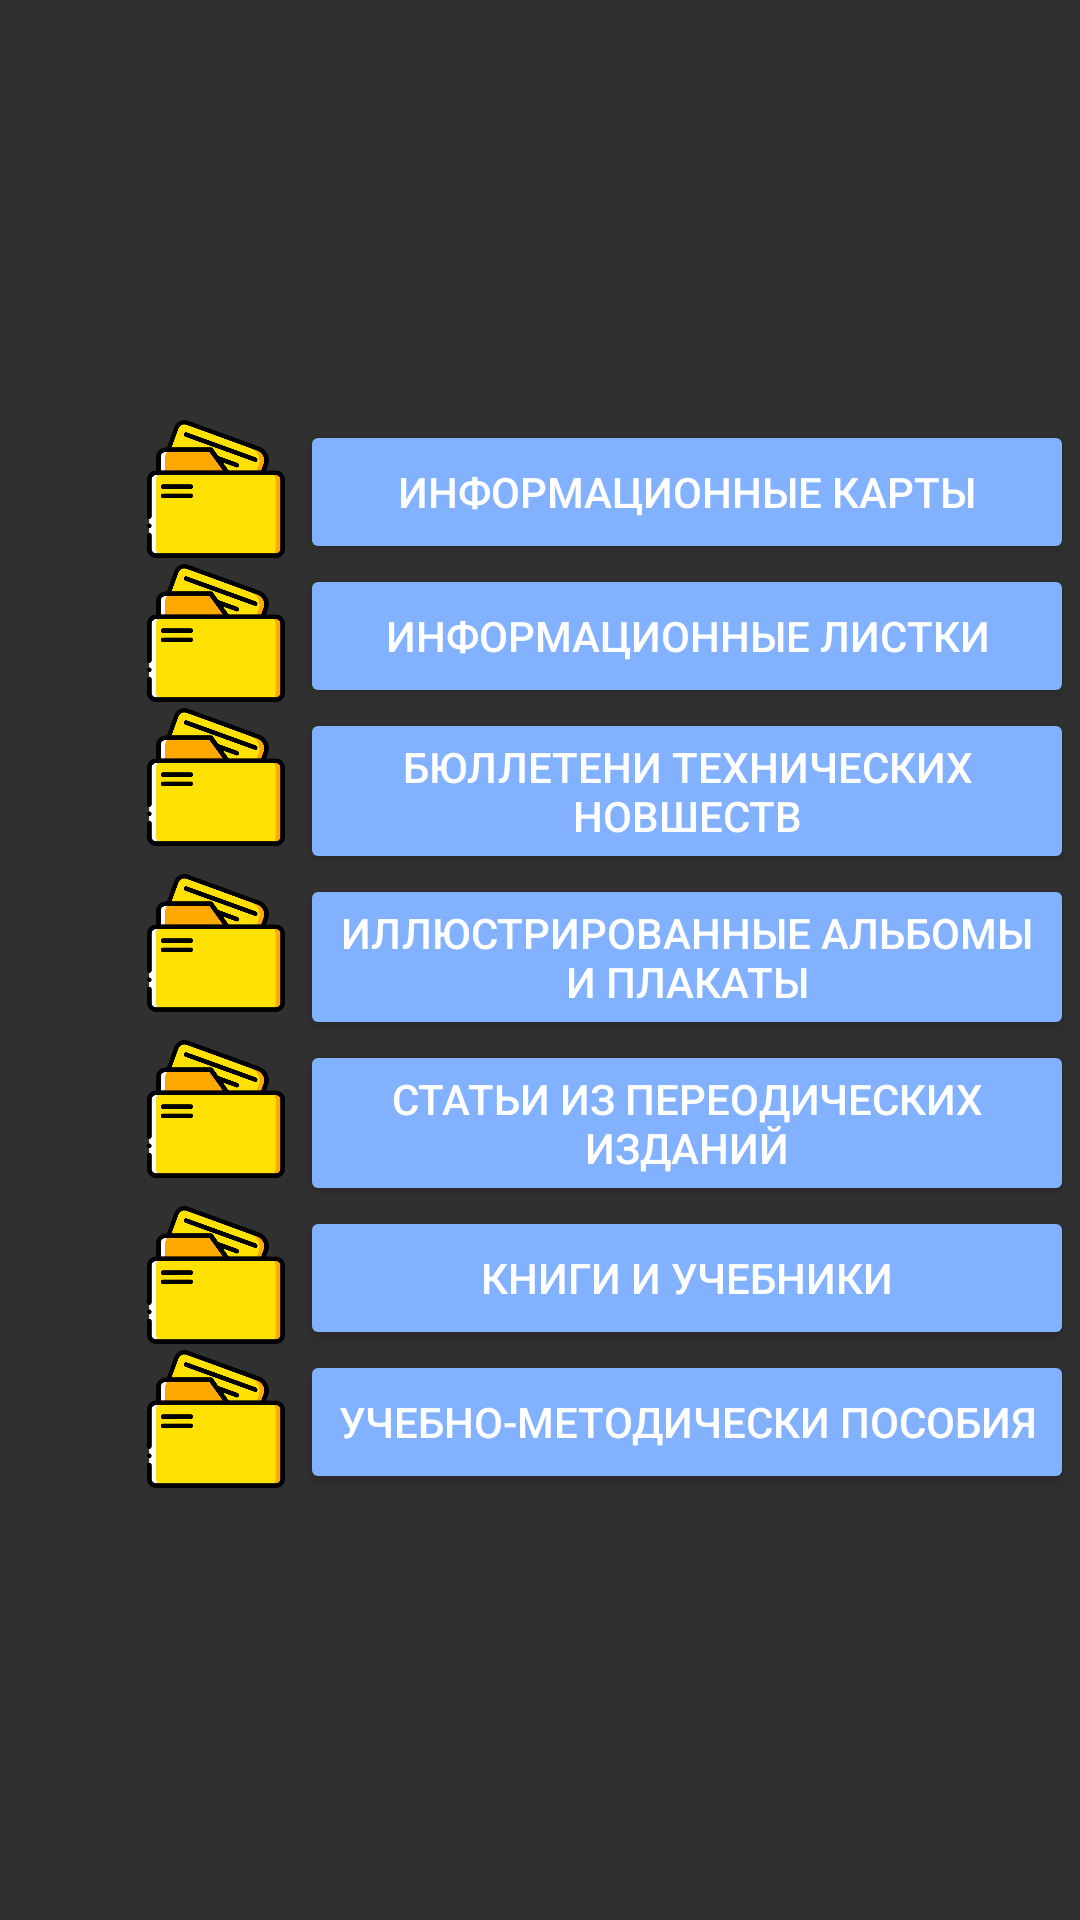

Where to tap for icons on this 1080w x 1920h app screen, as (x=x, y=y):
files: (x=216, y=489), (x=216, y=633), (x=216, y=777), (x=216, y=943), (x=216, y=1109), (x=216, y=1275), (x=216, y=1419)
